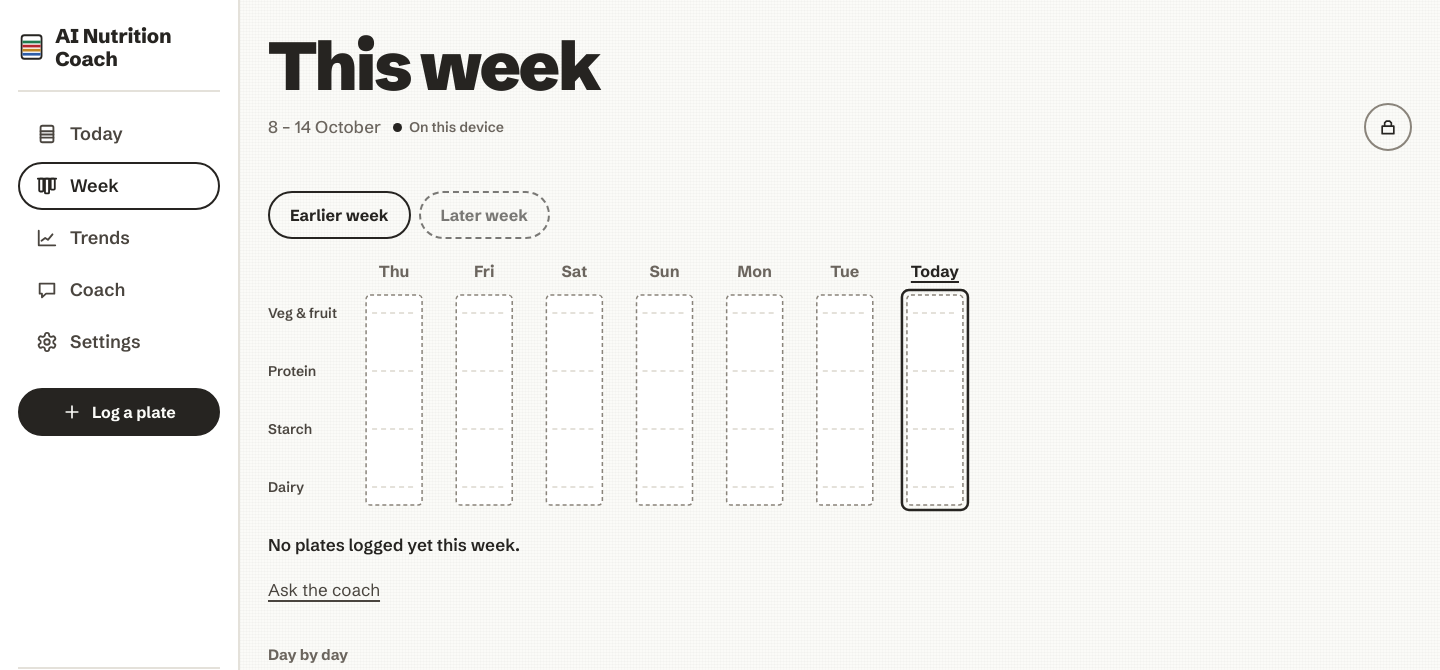
Test: WeekScreen › "Later week" and "Back to this week" return to the week ending today
The width and height of the screenshot is (1440, 670).
expect the heading "This week" is shown: met, box [268,24,599,108]
What coordinates should you click on to do the following:
click the button "Earlier week"
I would click on:
 (339, 215)
Its box is [268,191,411,239].
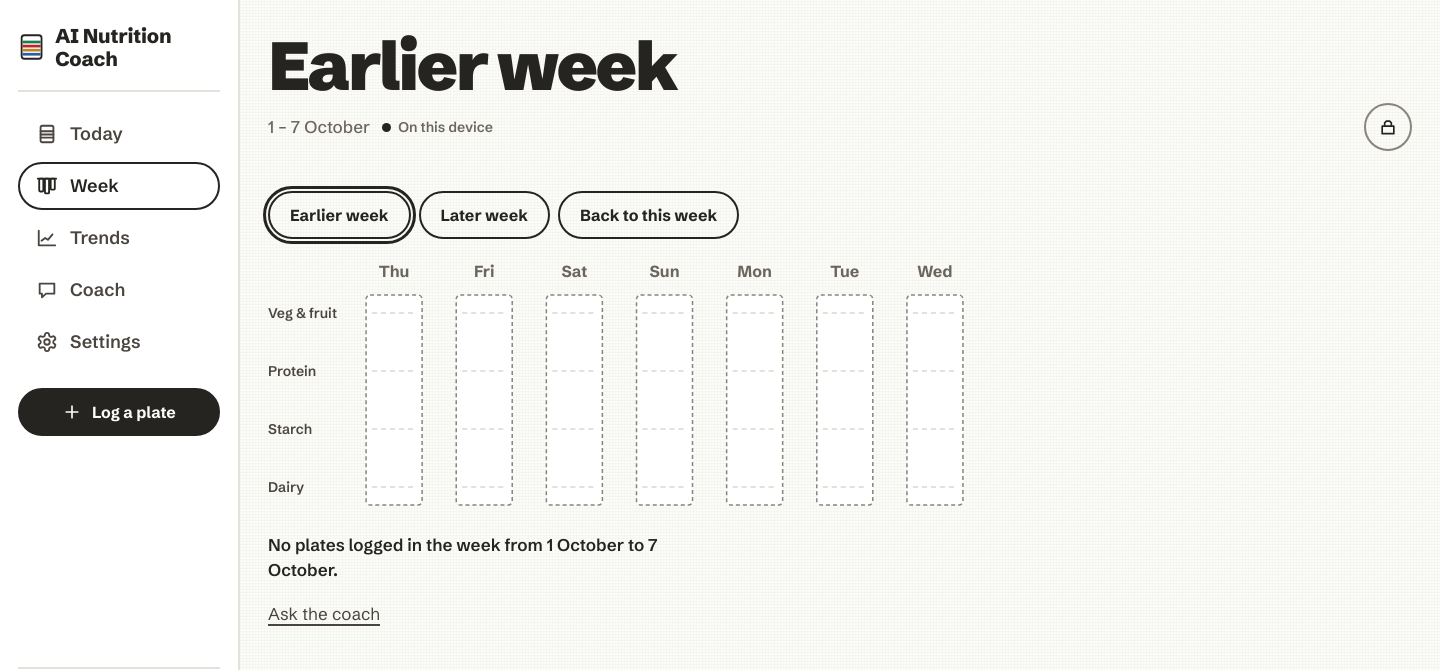
What coordinates should you click on to do the following:
click the button "Earlier week"
I would click on:
 (339, 215)
Its box is [268,191,411,239].
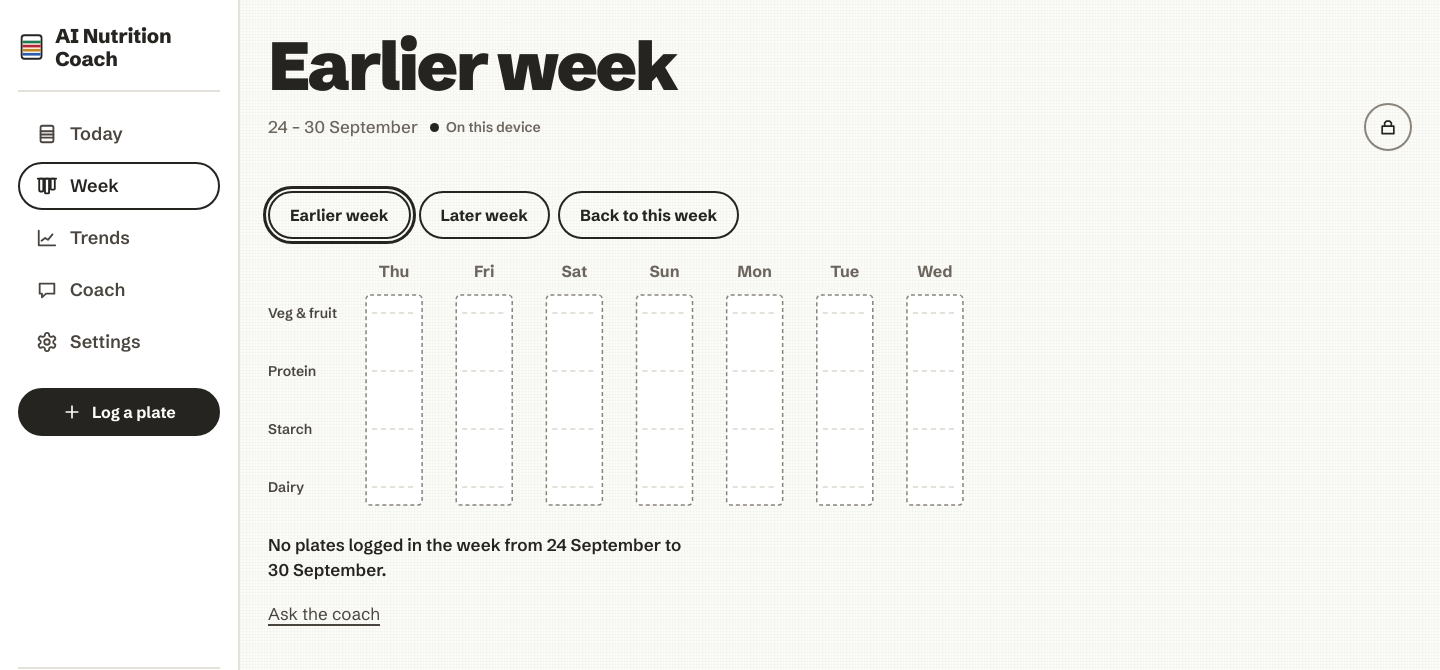
expect the text "24 – 30 September" is shown: met, box [268,116,418,137]
What coordinates should you click on to do the following:
click the button "Later week"
I would click on:
 (484, 215)
Its box is [419,191,550,239].
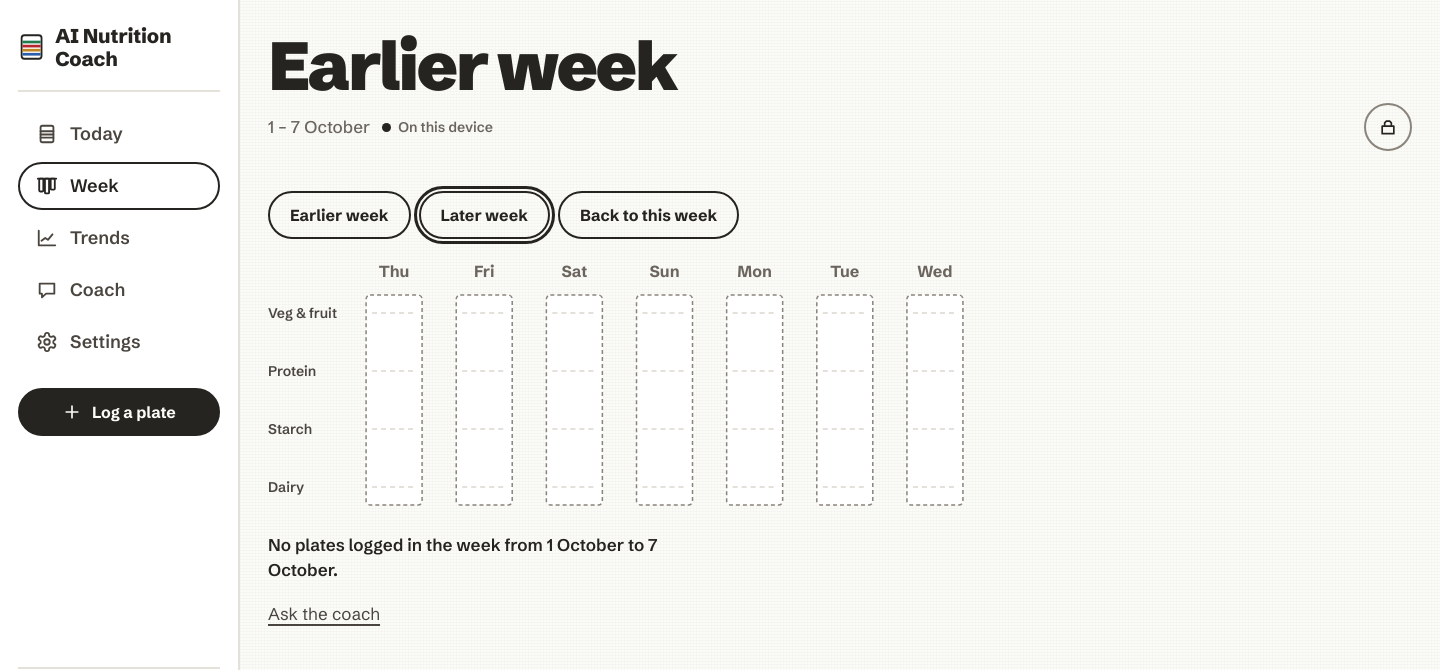
expect the text "1 – 7 October" is shown: met, box [268,116,370,137]
What coordinates should you click on to do the following:
click the button "Back to this week"
I would click on:
 (648, 215)
Its box is [558,191,739,239].
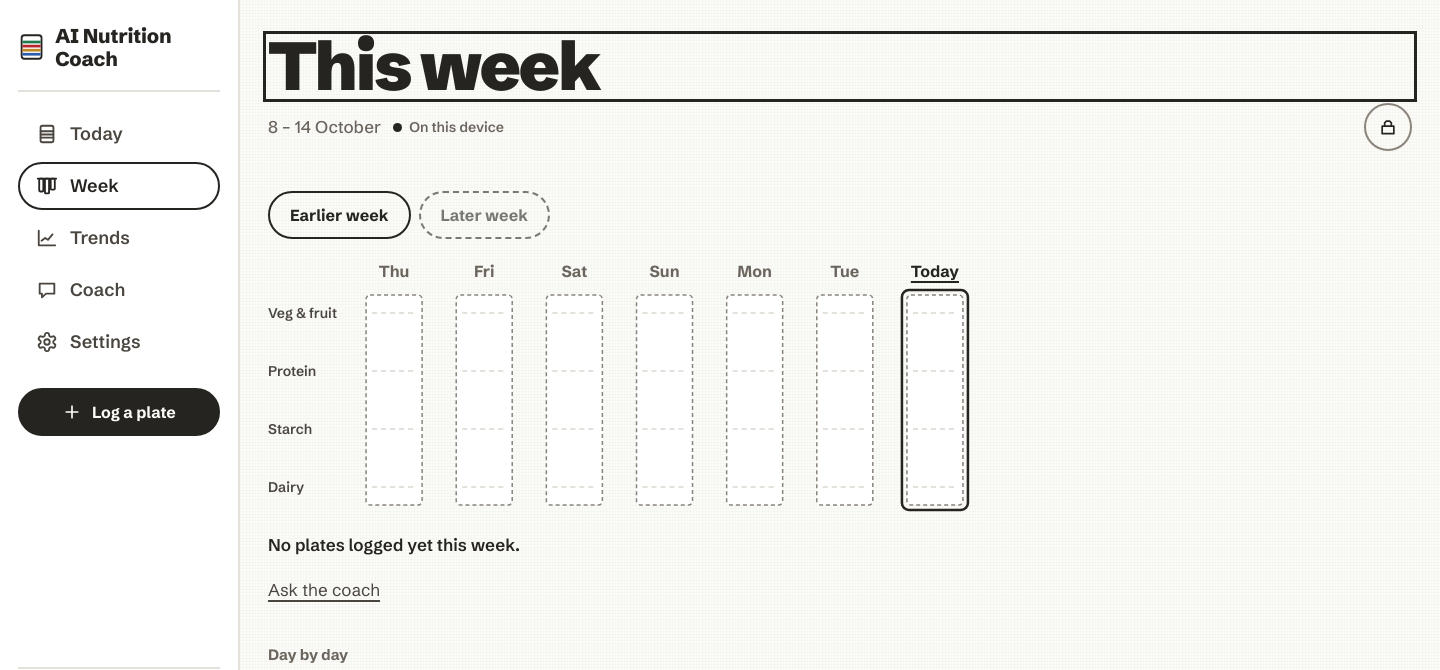
expect the heading "This week" is shown: met, box [268,24,599,108]
expect the button "Later week" is disabled: met, box [419,191,550,239]
